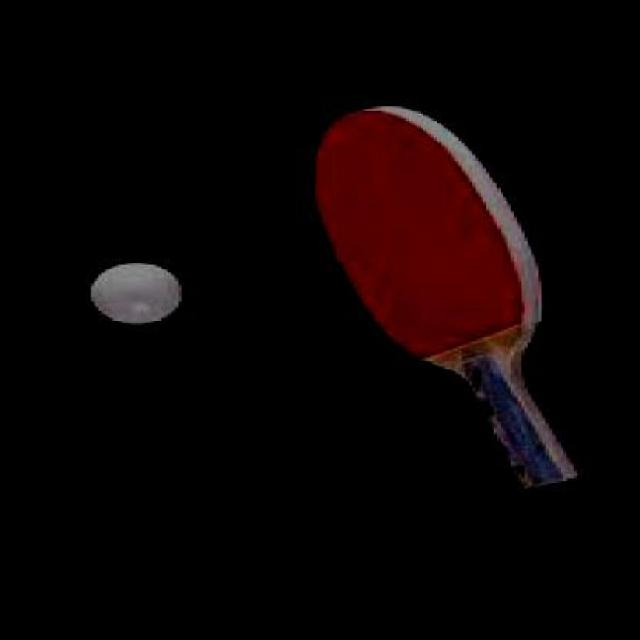table_tennis_racket: (303, 107, 546, 379)
